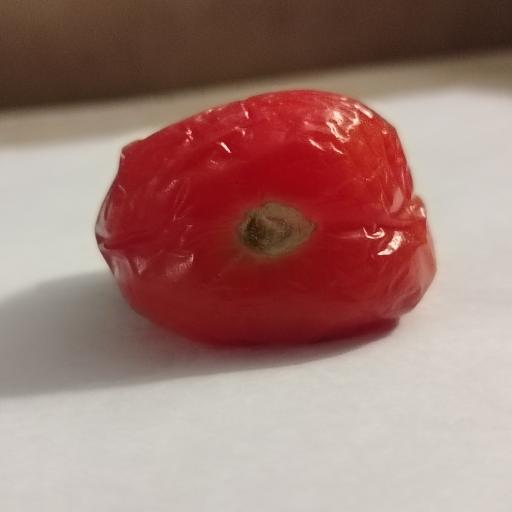spoiled: (96, 90, 435, 344)
